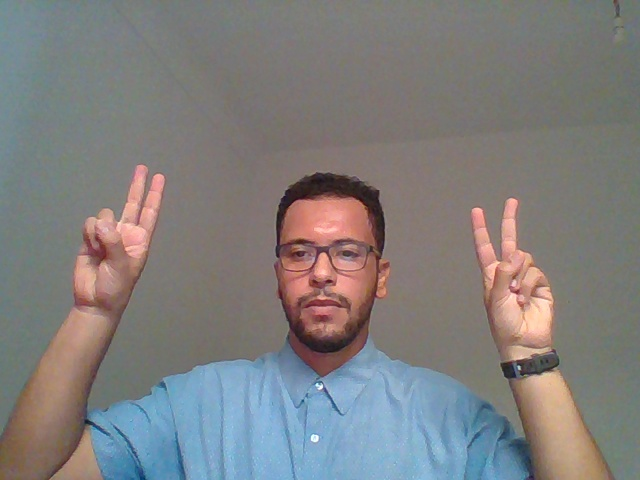vectory: (27, 142, 177, 441), (448, 184, 586, 456)
